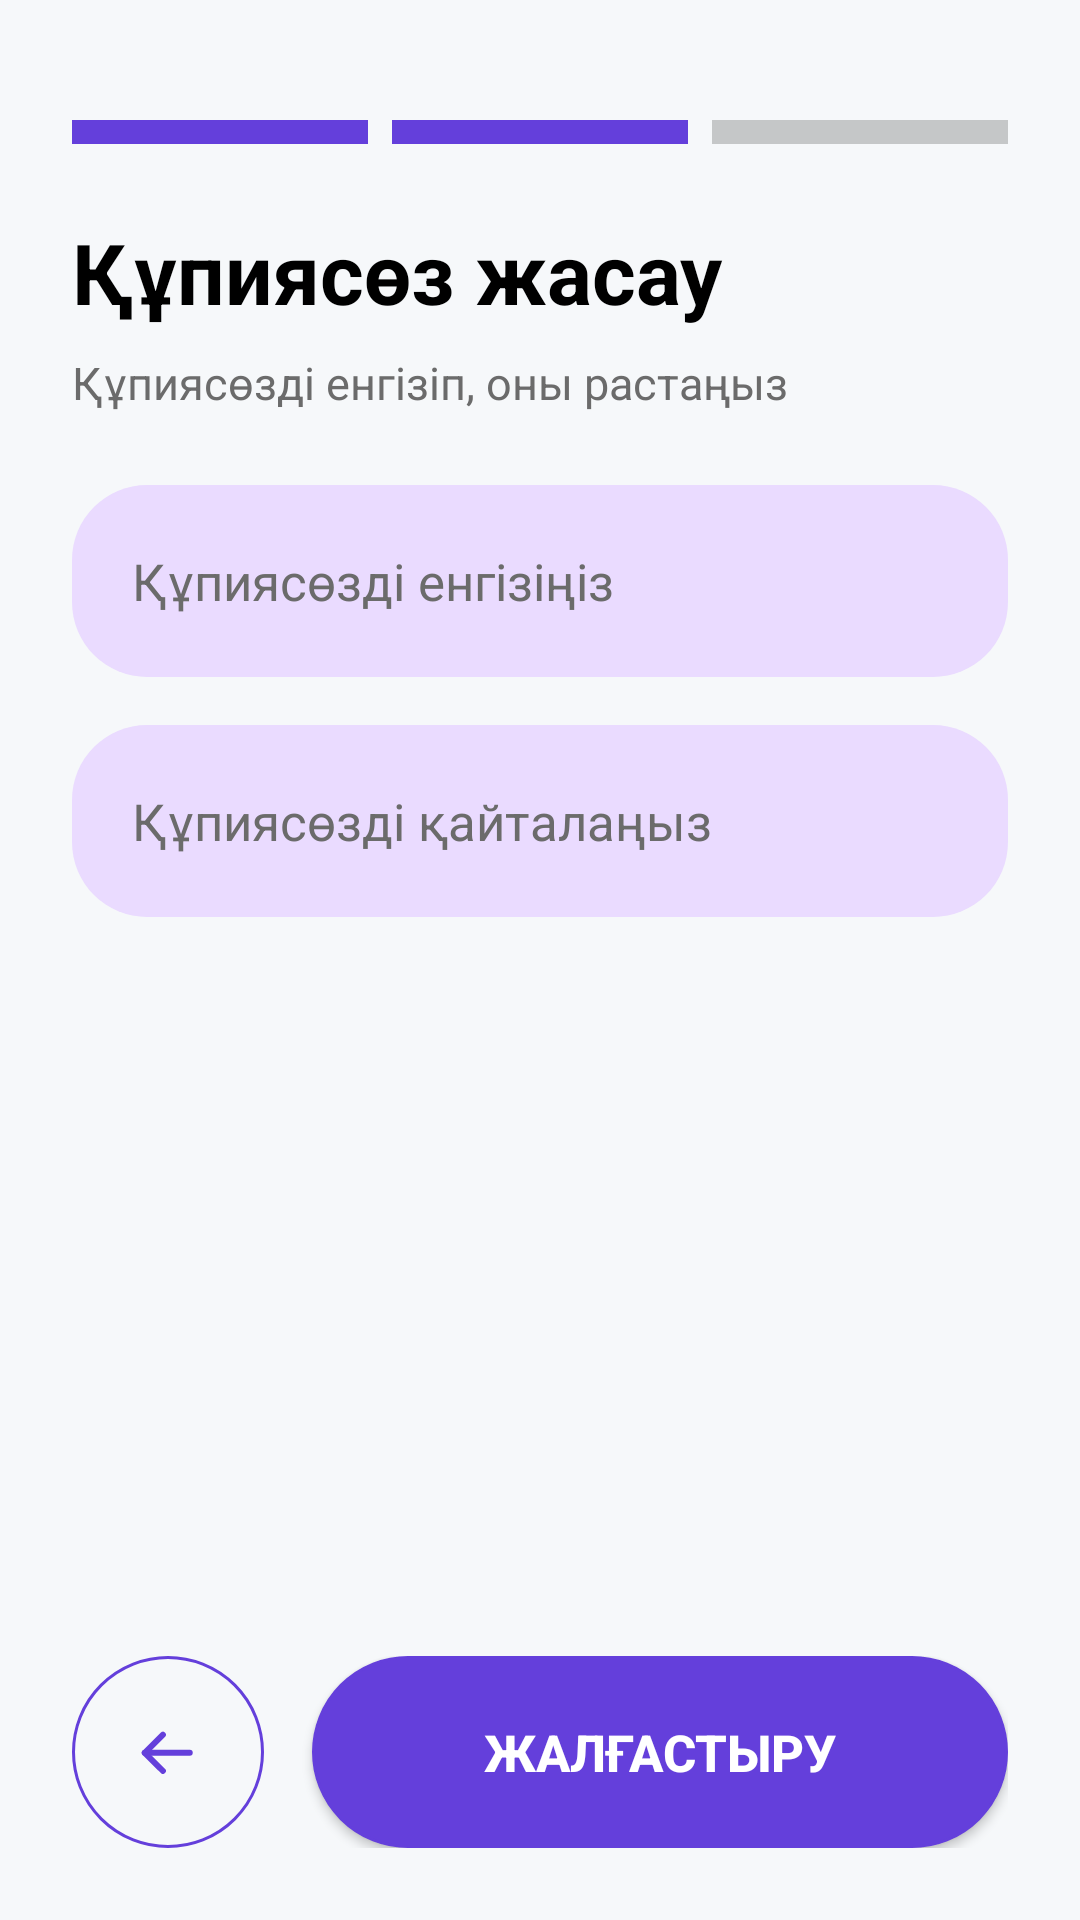

Icons on this 1080px x 1920px Android screen, each with the point to tap as (x,y):
Back: (168,1752)
